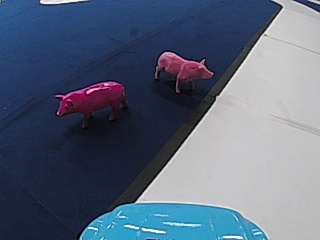pig: (52, 78, 129, 127), (151, 49, 216, 92)
